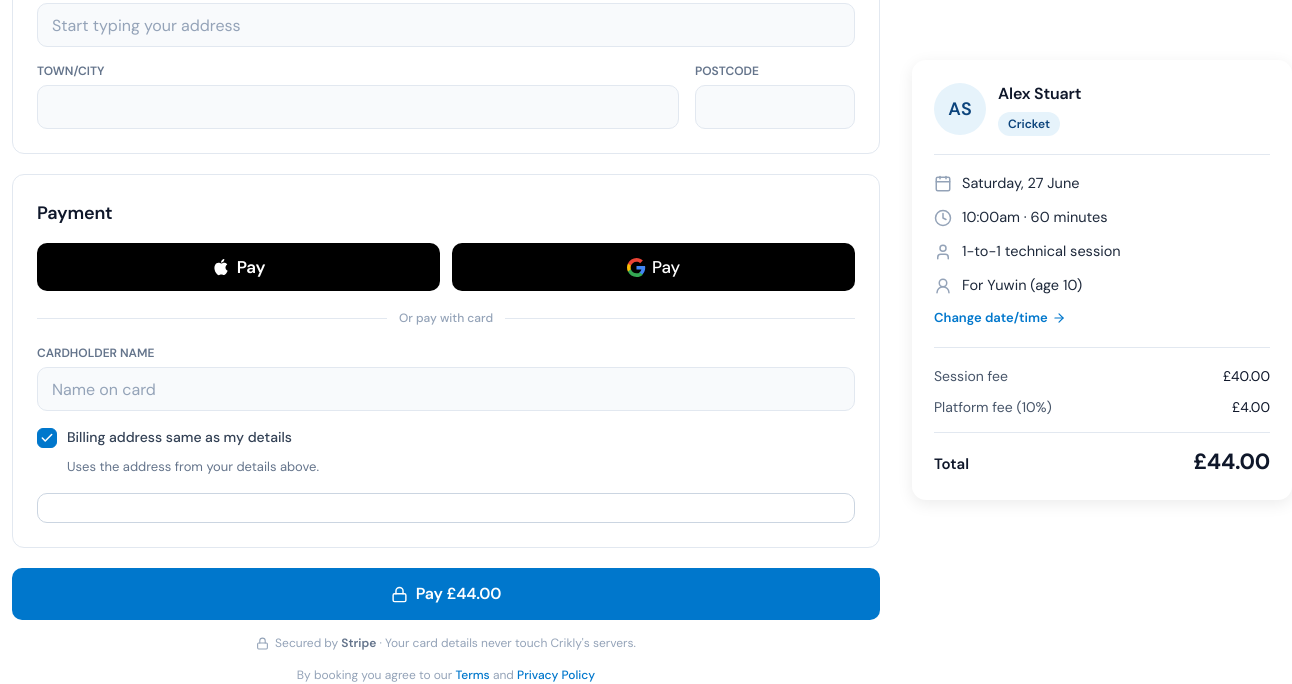
Test: GuestBookingFlow — handlePay success › confirmation shows the booking reference returned by the API
The image size is (1292, 684).
(page scrolled)
Click the button with test id "pay-button" at (446, 594), box x1=12 y1=568 x2=880 y2=620
(page scrolled)
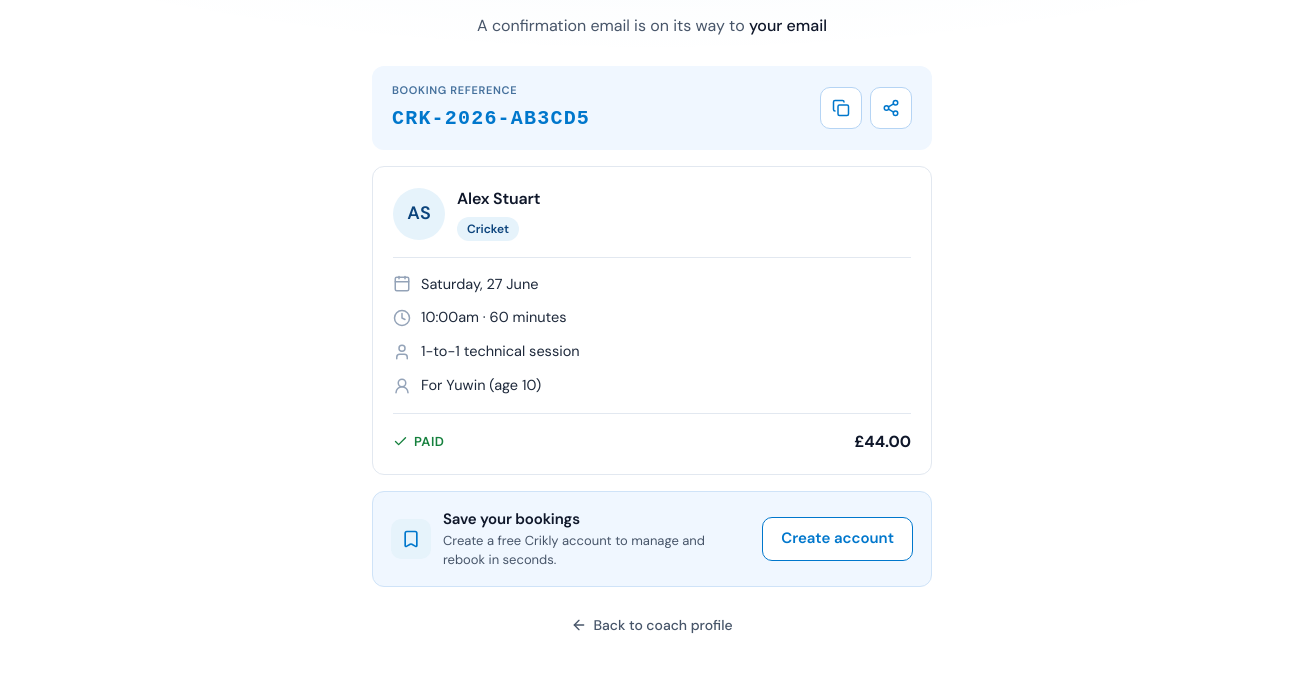
Expected: the text "CRK-2026-AB3CD5" is shown, x1=392 y1=104 x2=590 y2=134
